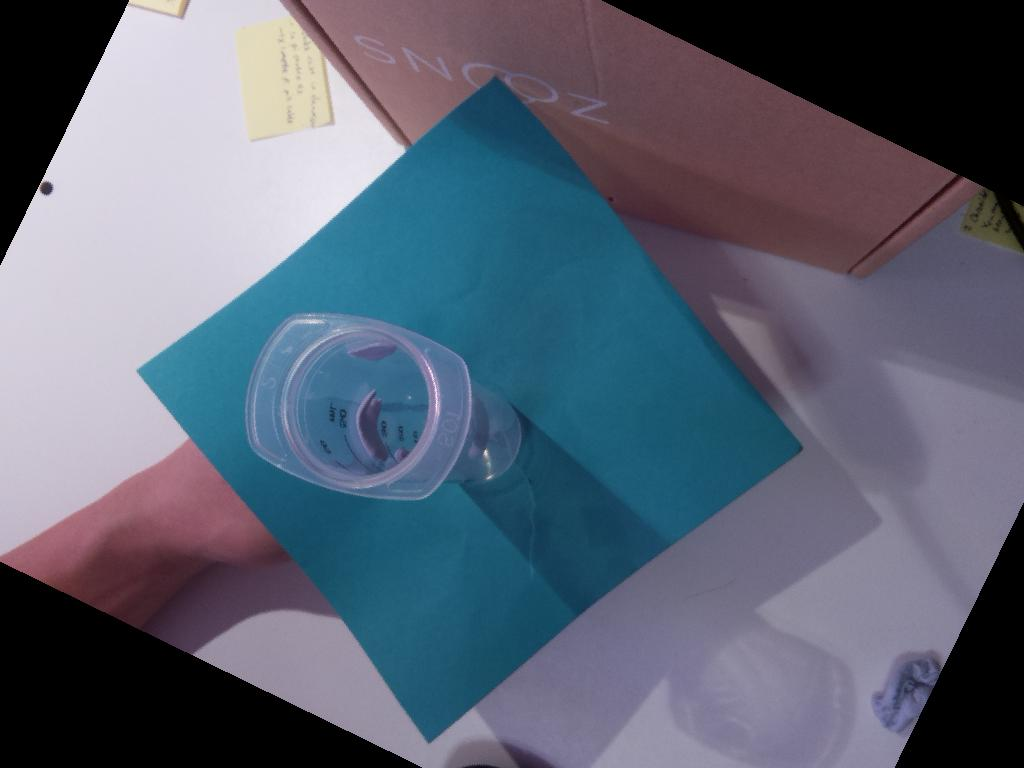dirty: (245, 311, 473, 499)
